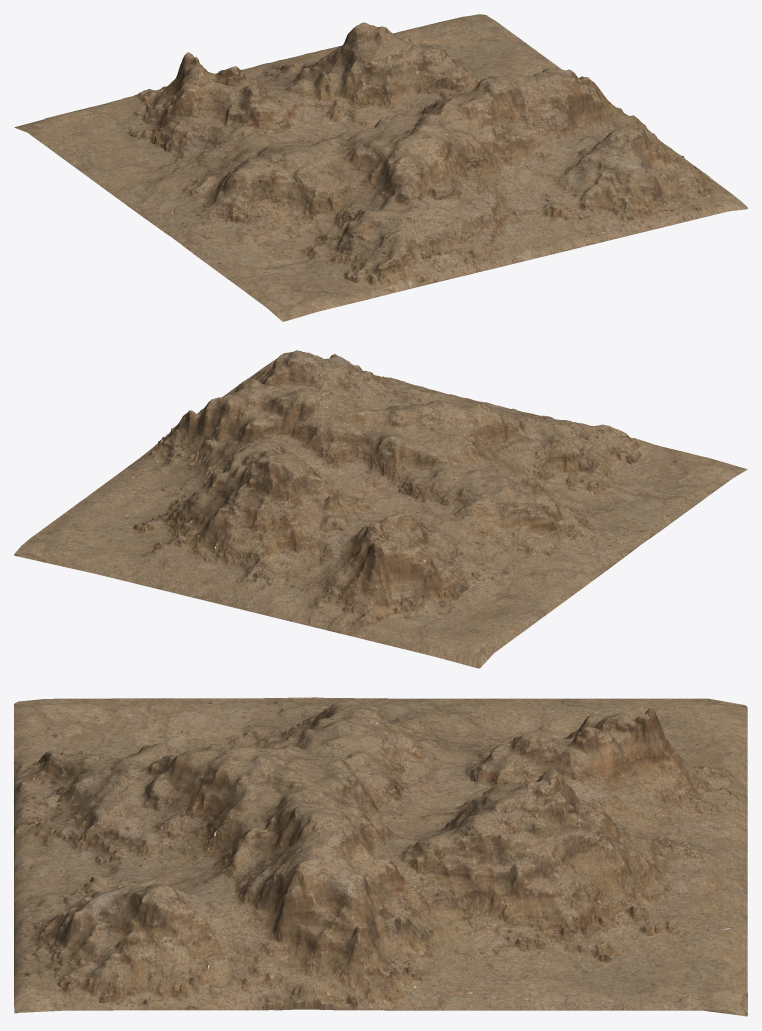
Rendered from mountains.glb.
3 renders of one model, top to bottom at view 1: azimuth 30°, elevation 25°; view 2: azimuth 150°, elevation 25°; view 3: azimuth 270°, elevation 25°, orthographic. The views are drawn at different scales.
Parts seen in each view (by area): view 1: Object_2; view 2: Object_2; view 3: Object_2.
Part boxes in pixels (box(x1,y1,x2,y2)): Object_2: box(14, 14, 747, 321); Object_2: box(14, 350, 747, 668); Object_2: box(14, 697, 747, 1016).
Size of the model in its own units: 4.06 by 0.7326 by 4.05.
1 material, 1 textured.
